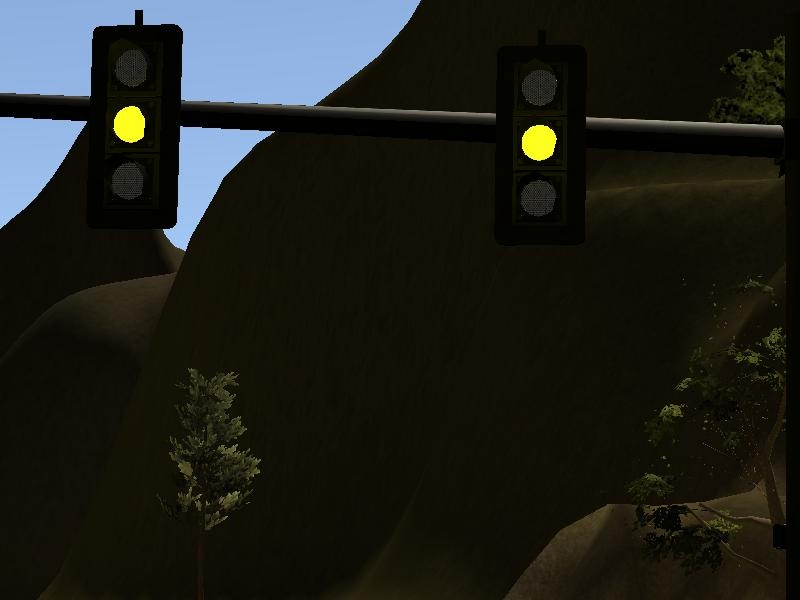yellow: (76, 7, 199, 238), (482, 32, 602, 257)
